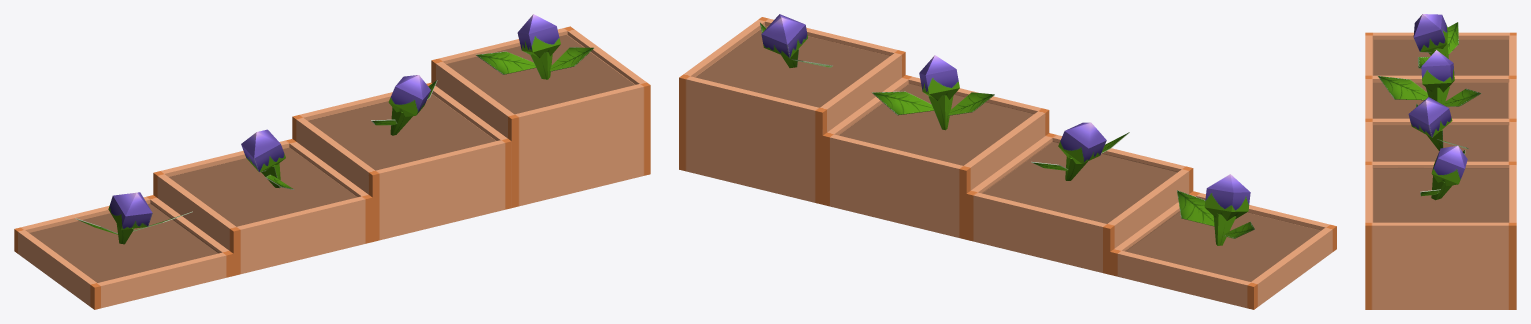
The model's file is CANTERO.fbx.
The picture shows the model from 3 angles, left to right: view 1: azimuth 30°, elevation 25°; view 2: azimuth 150°, elevation 25°; view 3: azimuth 270°, elevation 25°; orthographic projection. The views are drawn at different scales.
Parts seen in each view (by area): view 1: group3; view 2: group3; view 3: group3.
Part boxes in pixels (x1,y1,x2,y2): group3: [14, 14, 650, 309]; group3: [679, 14, 1336, 309]; group3: [1365, 14, 1516, 309].
Size of the model in its own units: 400 by 96.8 by 100.
